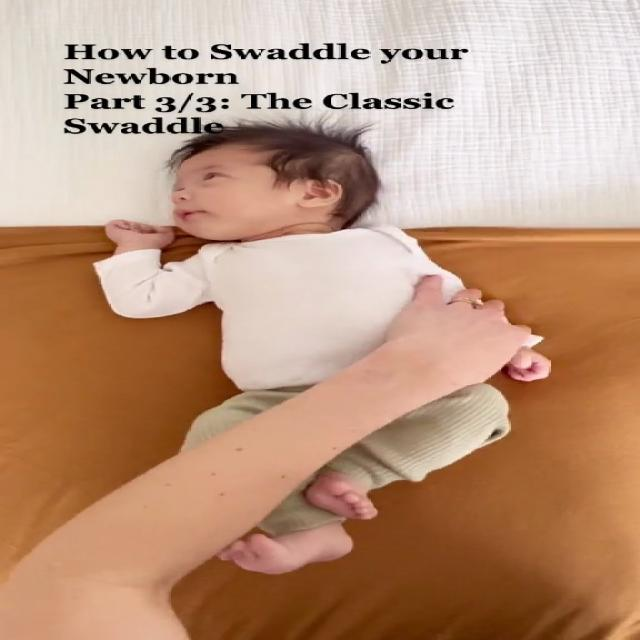baby: (95, 125, 558, 577)
